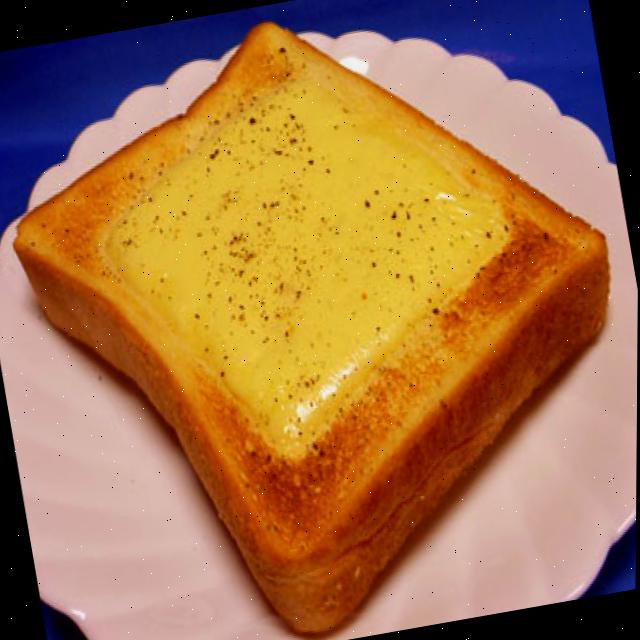面包点心: (0, 10, 640, 640)
